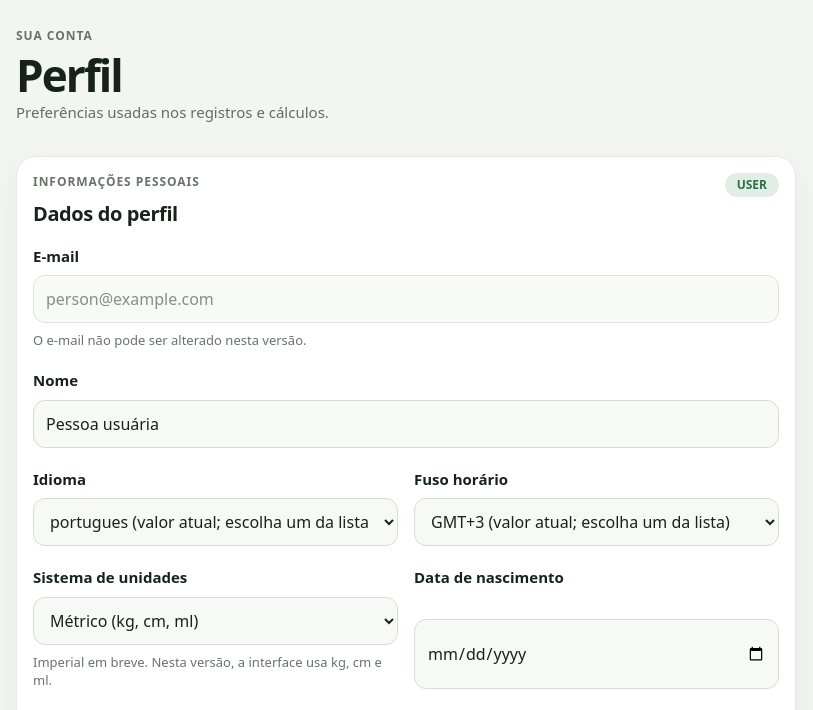
Test: idioma e fuso horário do perfil › mostra um valor gravado fora da lista como opção desabilitada até a troca por um da lista
Expected: the dropdown labelled "Fuso horário" shows "GMT+3 (valor atual; escolha um da lista)", [414, 498, 779, 546]
Select "Português (Brasil)" in the dropdown labelled "Idioma": [216, 522] box [33, 498, 398, 546]
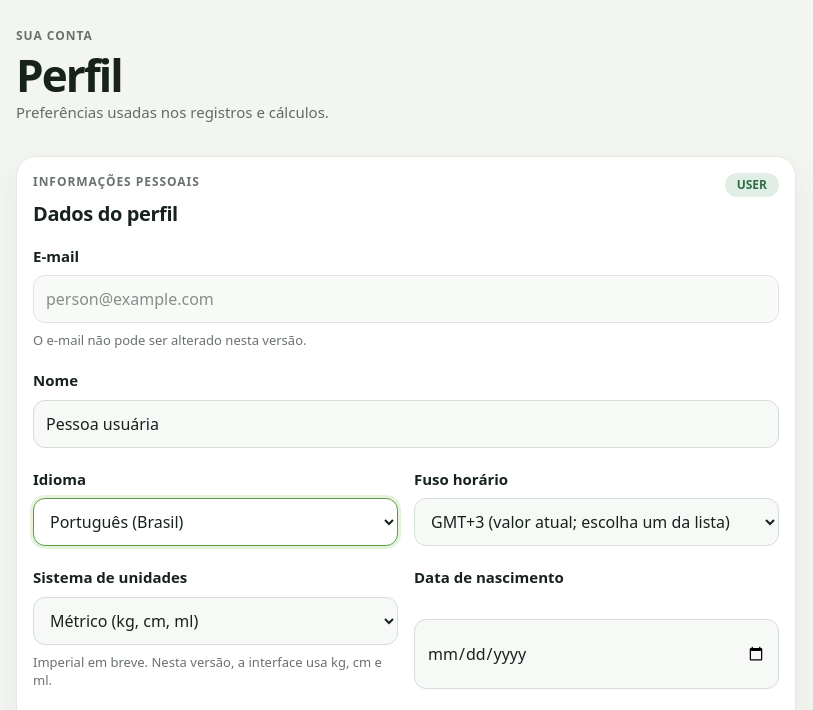
Select "Brasília (UTC−3)" in the dropdown labelled "Fuso horário": [596, 522] box [414, 498, 779, 546]
(page scrolled)
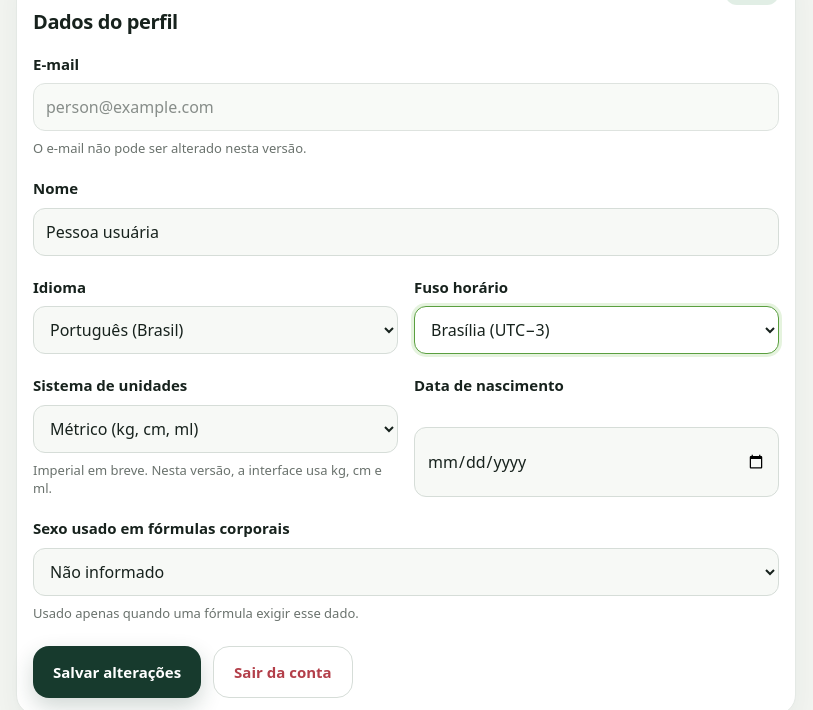
Click the button "Salvar alterações": [117, 672] box [33, 646, 201, 698]
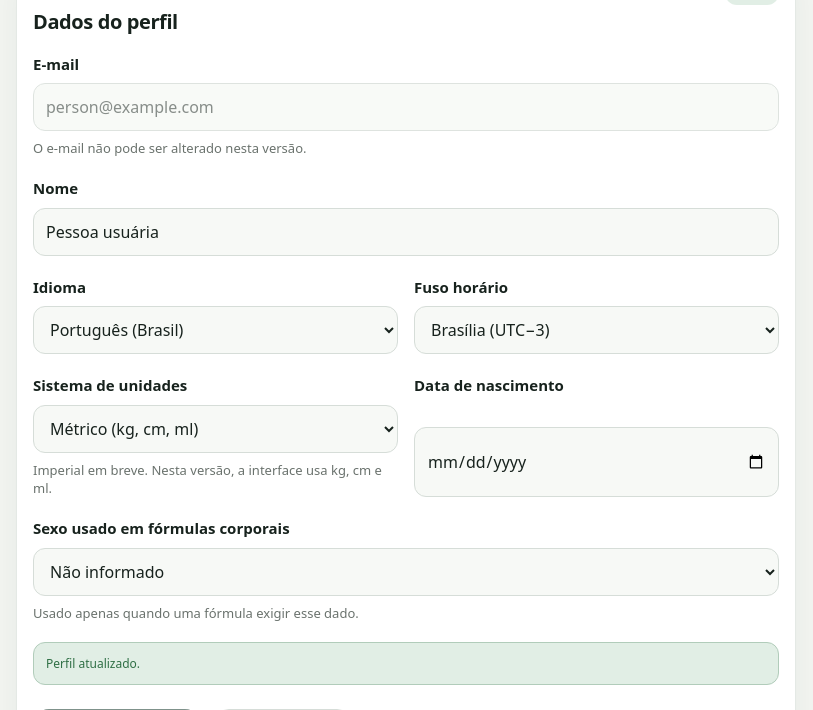
Expected: the option "portugues" is not shown
Now the message reads "Perfil atualizado.", box [46, 655, 140, 672]
